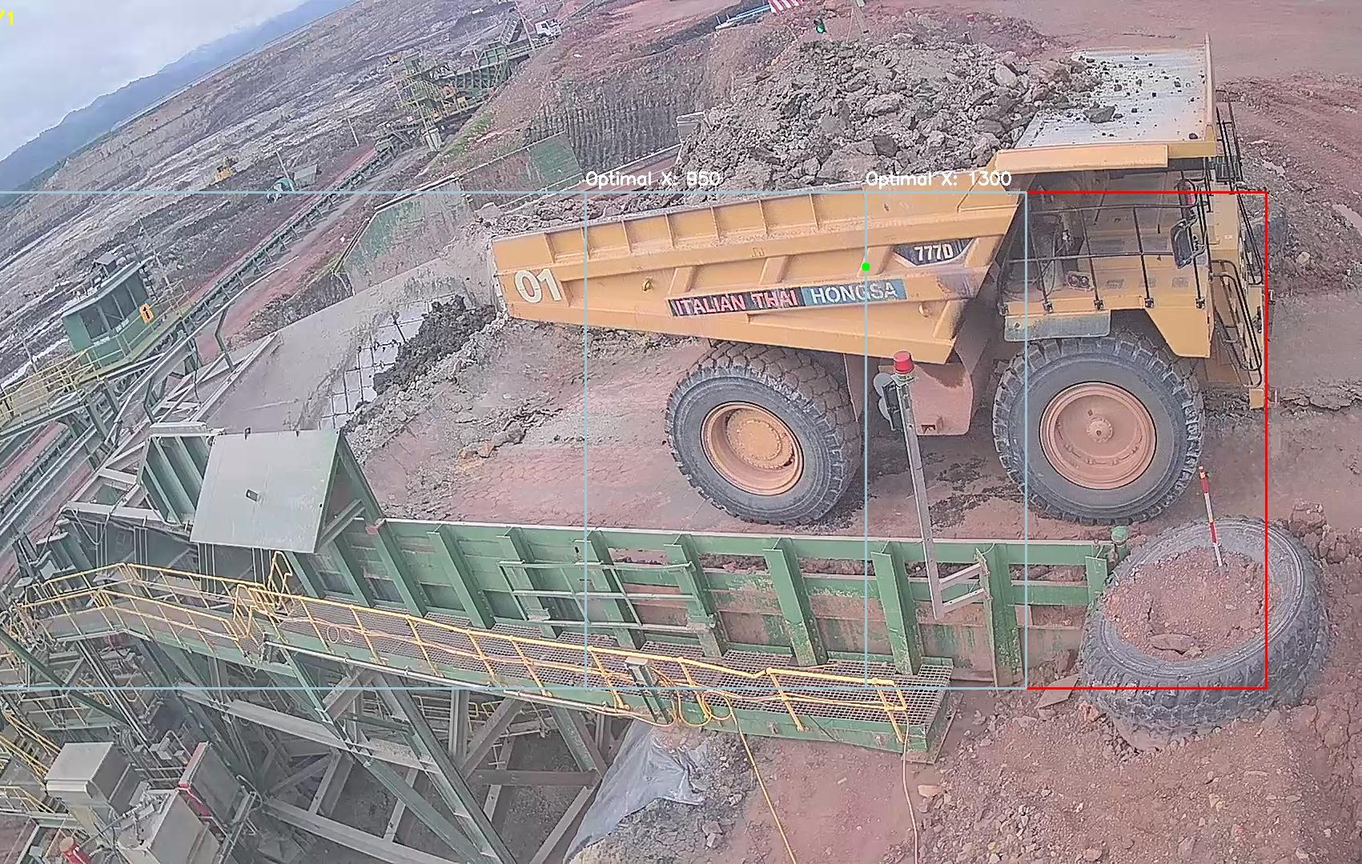company: (652, 277, 917, 321)
full_load: (728, 26, 1004, 203)
mining_truck: (475, 15, 1286, 538)
tail_number: (502, 251, 575, 314)
truck_size: (883, 232, 976, 273)
